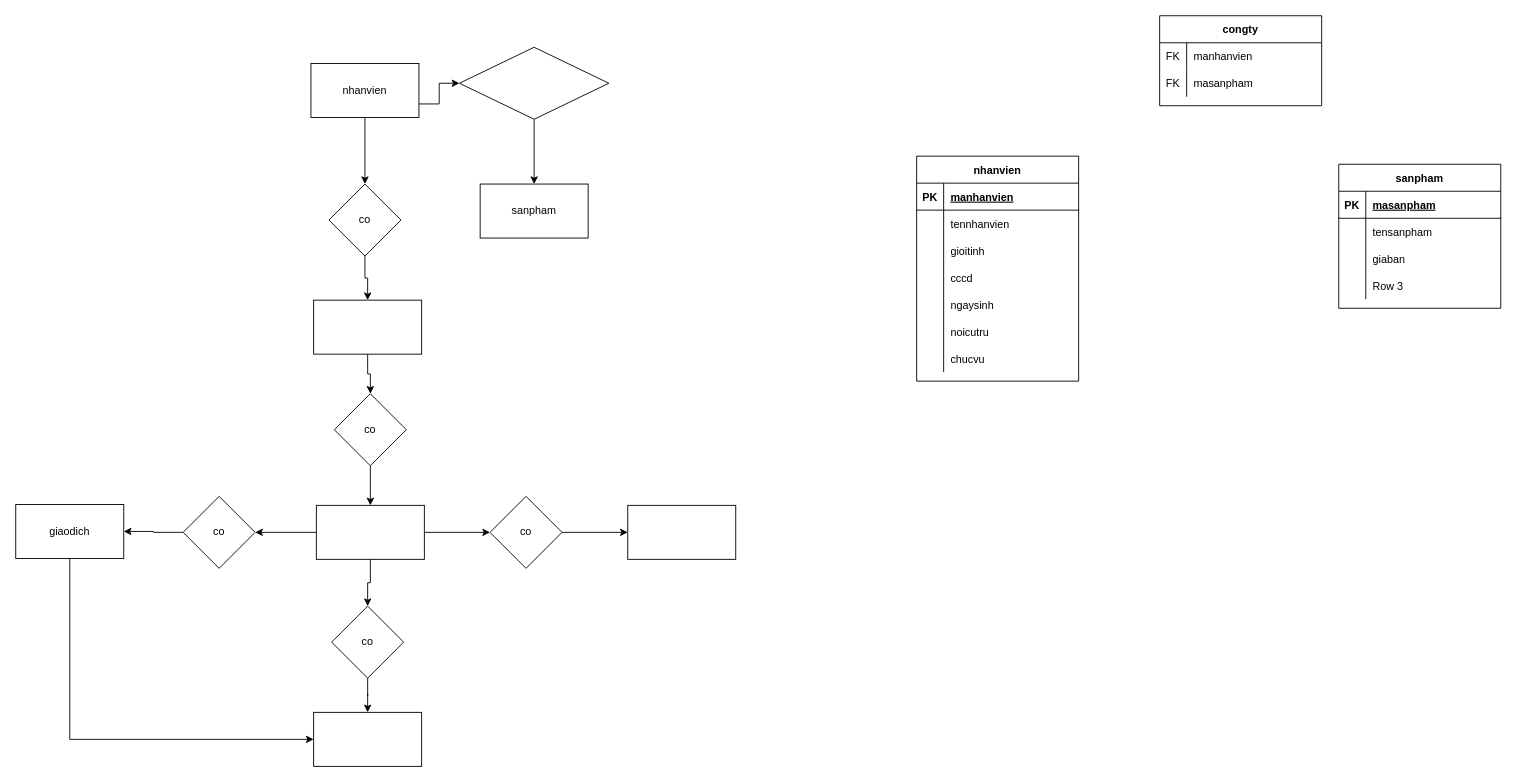
This 1517x782 diagram has some shape labels left out. Each missing label, with the box of its shape:
diemthuong: (313, 711, 422, 766)
khachhang: (313, 299, 422, 354)
quanlysanpham: (459, 46, 609, 119)
taikhoan: (315, 504, 424, 559)
tindung: (627, 504, 736, 559)
